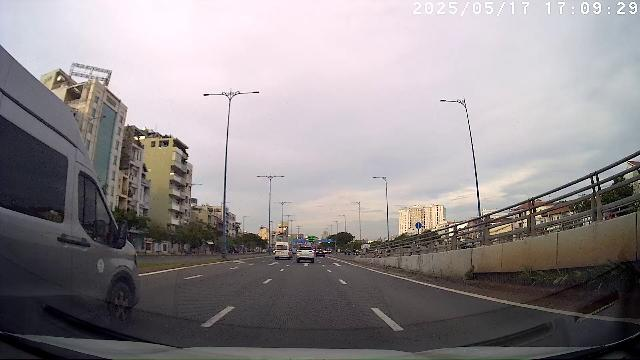301a-cac-xe-chi-duoc-di-thang: (414, 222, 422, 229)
